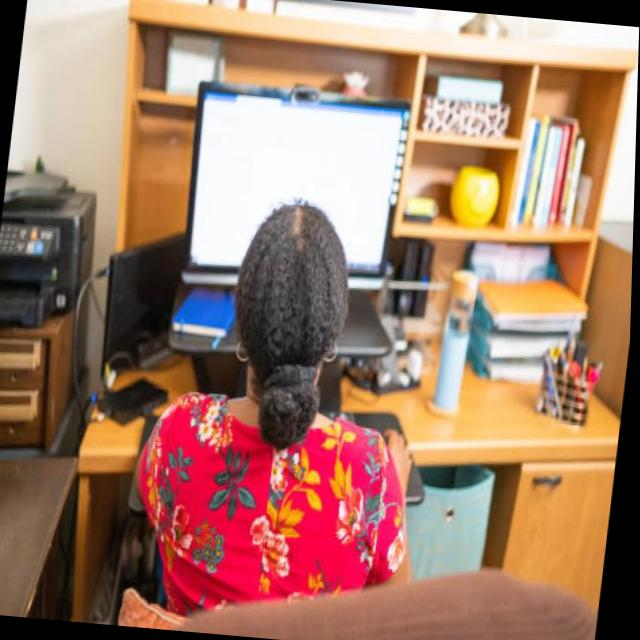no helmet: (216, 198, 377, 444)
